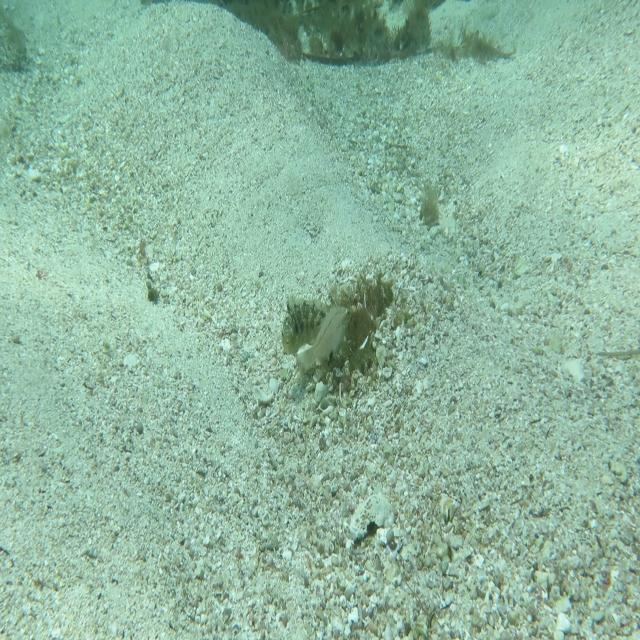DAN_CIRC: (276, 287, 330, 377)
female: (293, 300, 356, 380)
nest: (302, 264, 398, 401)
vegetation: (235, 0, 454, 65), (416, 183, 444, 236)
